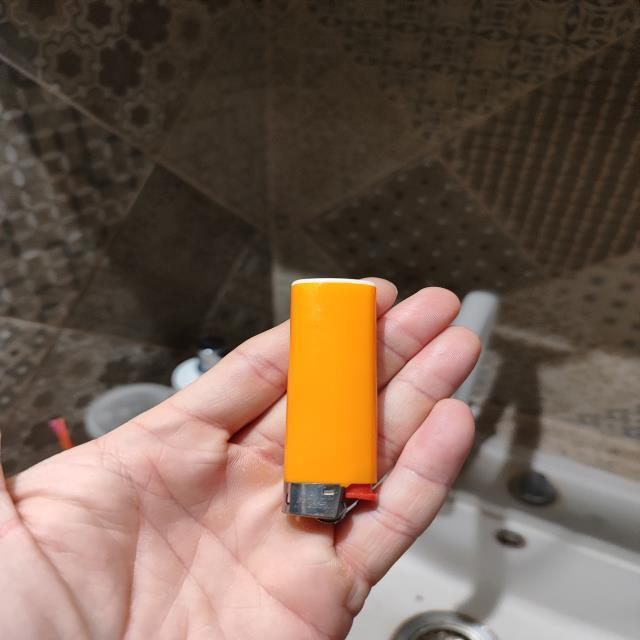lighter: (283, 280, 378, 522)
